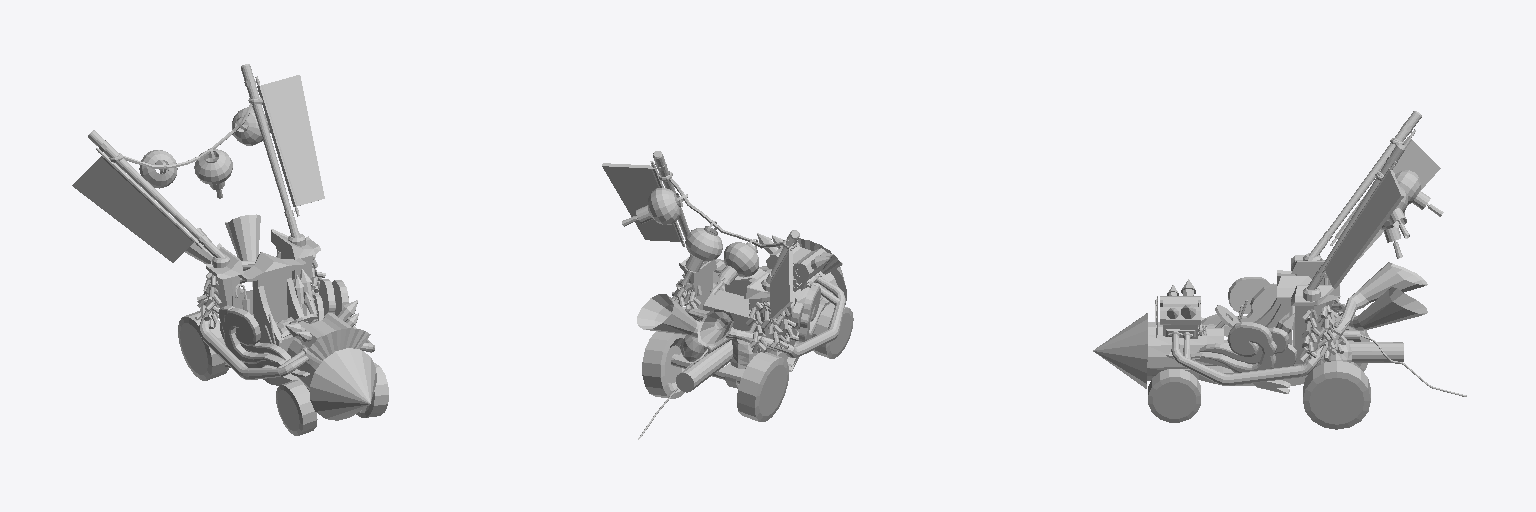
Rendered from Kart.obj.
3 renders of one model, left to right at view 1: azimuth 30°, elevation 25°; view 2: azimuth 150°, elevation 25°; view 3: azimuth 270°, elevation 25°, orthographic.
Visible parts, largest first — view 1: BG1_low.002, BG2_low.002, BG8_low.002, BG3_low.003, BG6_low.002, BG5_low.002, BG4_low.002, BG9_low.002, BG3_low.002, BG9_low.003; view 2: BG1_low.002, BG3_low.003, BG2_low.002, BG3_low.002, BG4_low.002, BG5_low.002, BG8_low.002, BG6_low.002, BG9_low.003, BG7_low.002, BG1_low.003, BG9_low.002; view 3: BG1_low.002, BG2_low.002, BG9_low.003, BG6_low.002, BG4_low.002, BG3_low.003, BG8_low.002, BG7_low.002, BG9_low.002, BG3_low.002, BG5_low.002, BG1_low.003.
Boxes of the visible parts, x1,y1,x2,y2 form: BG1_low.002: [72, 64, 376, 420]; BG2_low.002: [203, 217, 352, 376]; BG8_low.002: [203, 251, 306, 351]; BG3_low.003: [199, 214, 309, 379]; BG6_low.002: [113, 97, 388, 435]; BG5_low.002: [109, 98, 370, 363]; BG4_low.002: [206, 229, 320, 353]; BG9_low.002: [235, 269, 358, 344]; BG3_low.002: [212, 233, 309, 391]; BG9_low.003: [185, 228, 374, 352]; BG1_low.002: [602, 151, 846, 421]; BG3_low.003: [637, 277, 845, 357]; BG2_low.002: [680, 242, 832, 371]; BG3_low.002: [674, 260, 797, 380]; BG4_low.002: [671, 257, 821, 383]; BG5_low.002: [659, 171, 842, 368]; BG8_low.002: [683, 261, 782, 352]; BG6_low.002: [659, 172, 853, 358]; BG9_low.003: [685, 266, 770, 346]; BG7_low.002: [638, 280, 797, 439]; BG1_low.003: [622, 206, 736, 294]; BG9_low.002: [713, 233, 833, 316]; BG1_low.002: [1093, 111, 1440, 429]; BG2_low.002: [1160, 237, 1351, 393]; BG9_low.003: [1171, 262, 1427, 385]; BG6_low.002: [1148, 138, 1401, 422]; BG4_low.002: [1168, 255, 1339, 363]; BG3_low.003: [1201, 287, 1427, 330]; BG8_low.002: [1203, 270, 1345, 364]; BG7_low.002: [1199, 304, 1466, 396]; BG9_low.002: [1167, 279, 1294, 333]; BG3_low.002: [1183, 253, 1353, 385]; BG5_low.002: [1155, 139, 1404, 362]; BG1_low.003: [1384, 192, 1443, 258].
Size of the model in its own units: 12.3 by 15.3 by 19.06.